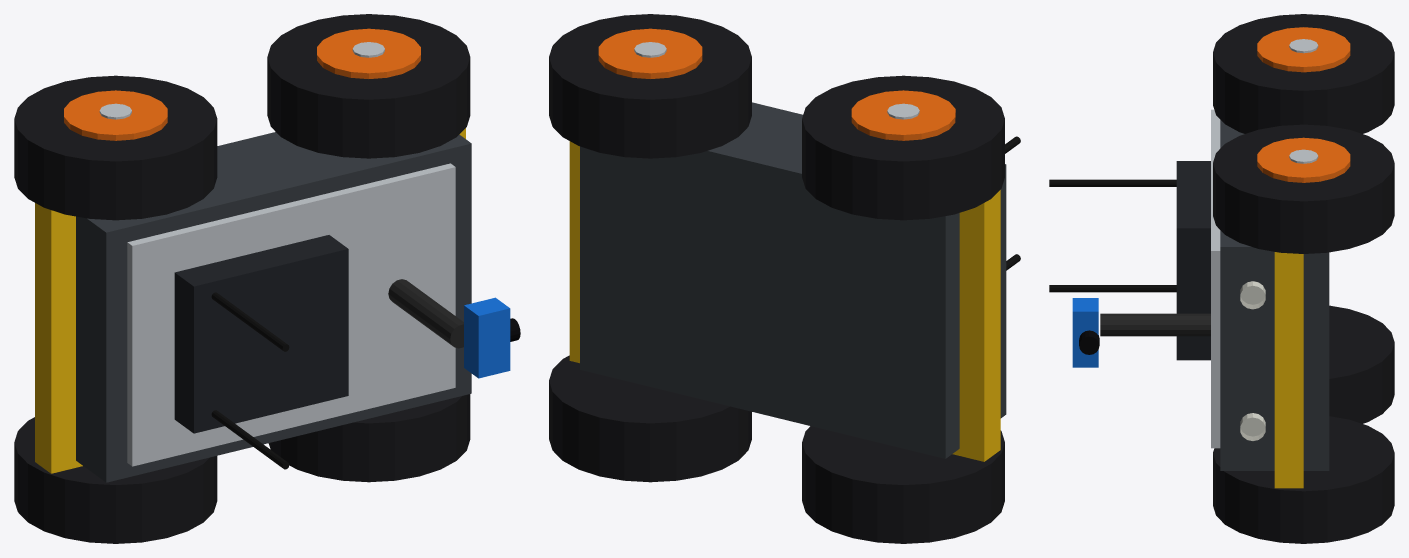
Rendered from ugv_rover.obj.
3 views of the same model, side by side, from view 1: azimuth 30°, elevation 25°; view 2: azimuth 150°, elevation 25°; view 3: azimuth 270°, elevation 25° (orthographic). The views are drawn at different scales.
Size of the model in its own units: 0.61 by 0.542 by 0.475.
